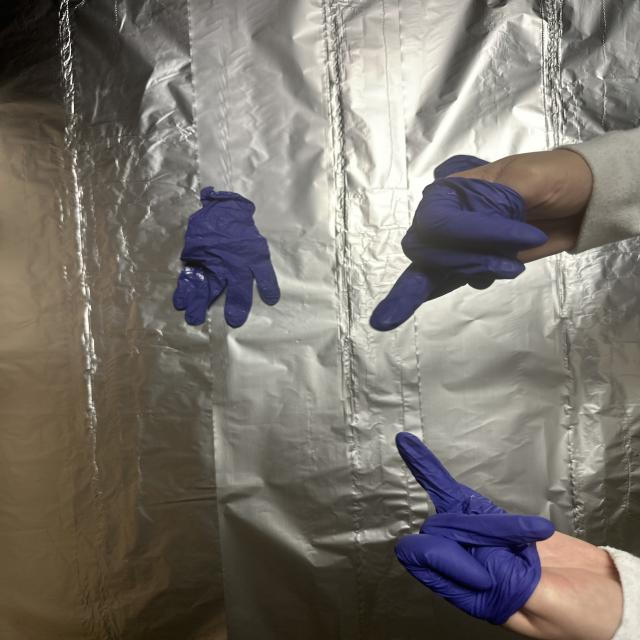glove_partial: (386, 431, 620, 640), (368, 144, 595, 332)
